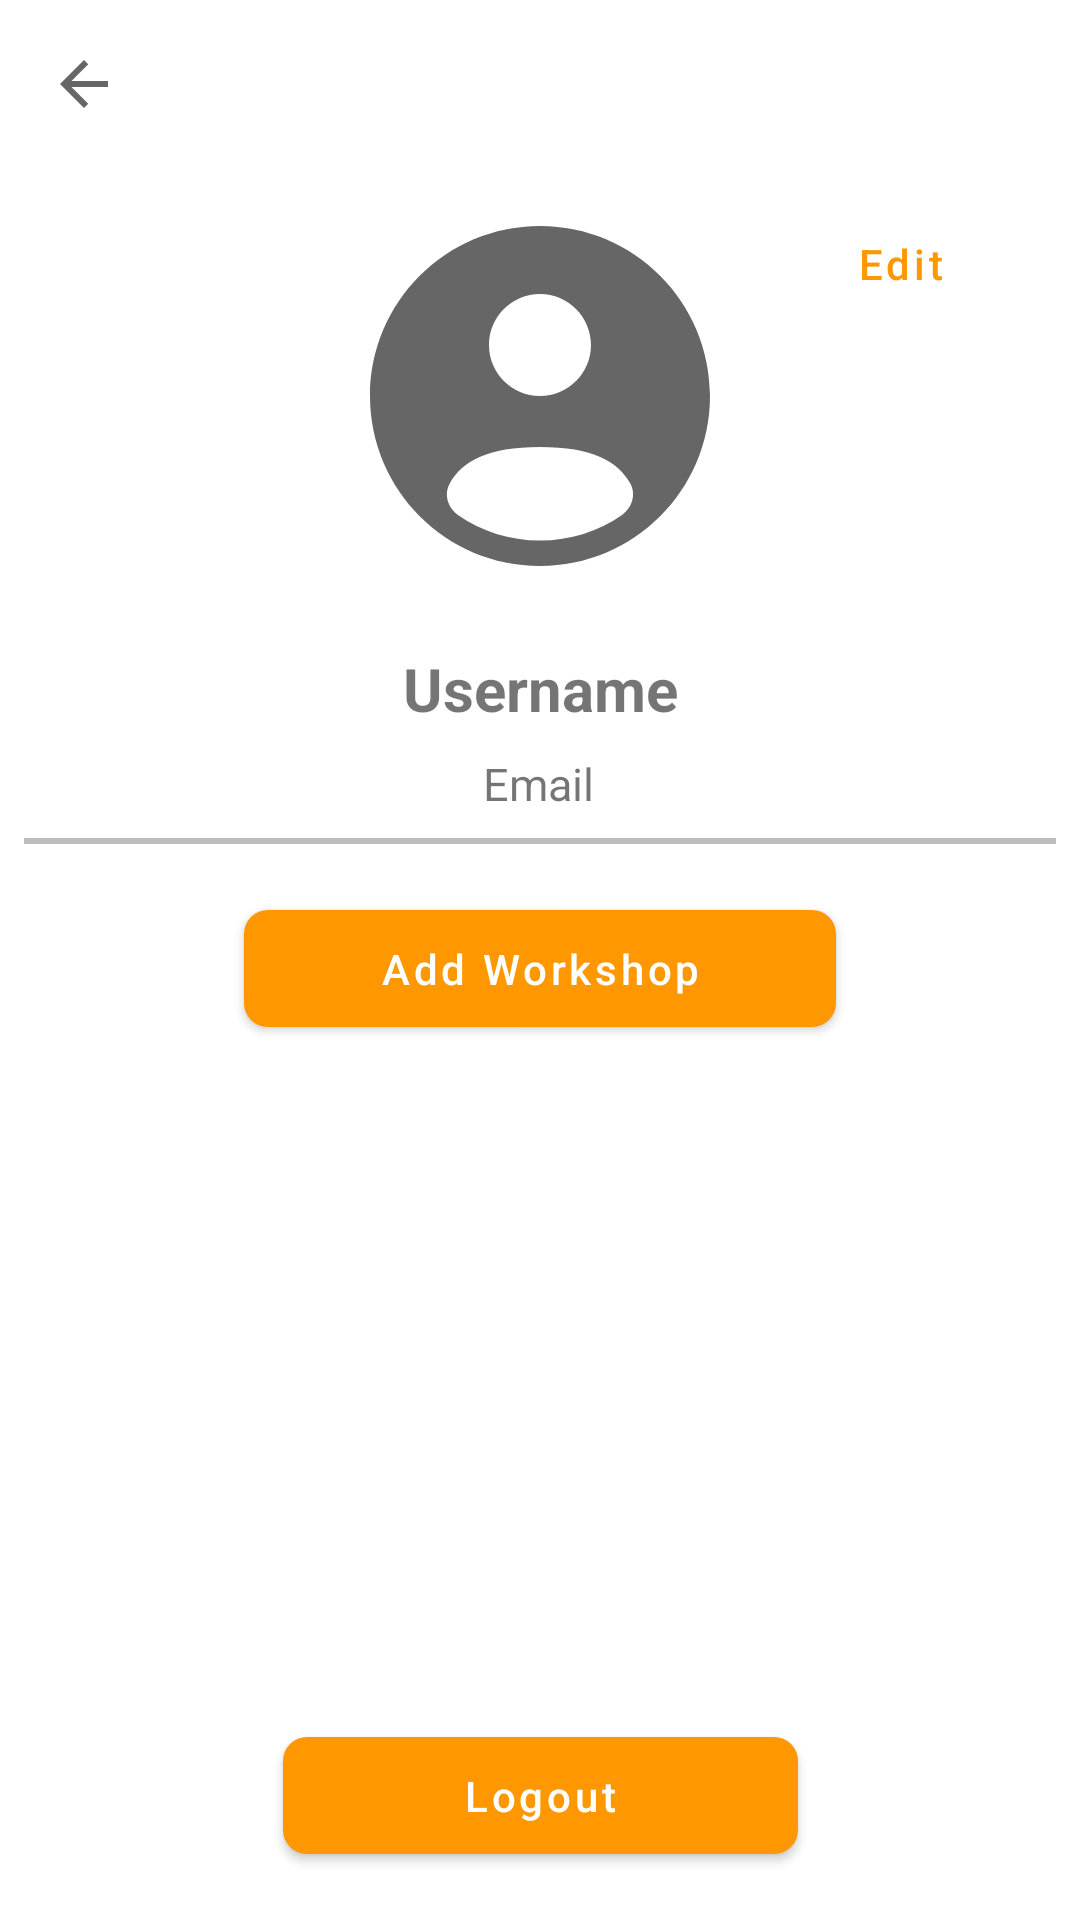

Locate icon controls on the screen. Image size 1080x1920, boxes as (x1, y1, x2, y2).
user circle: (370, 226, 710, 566)
